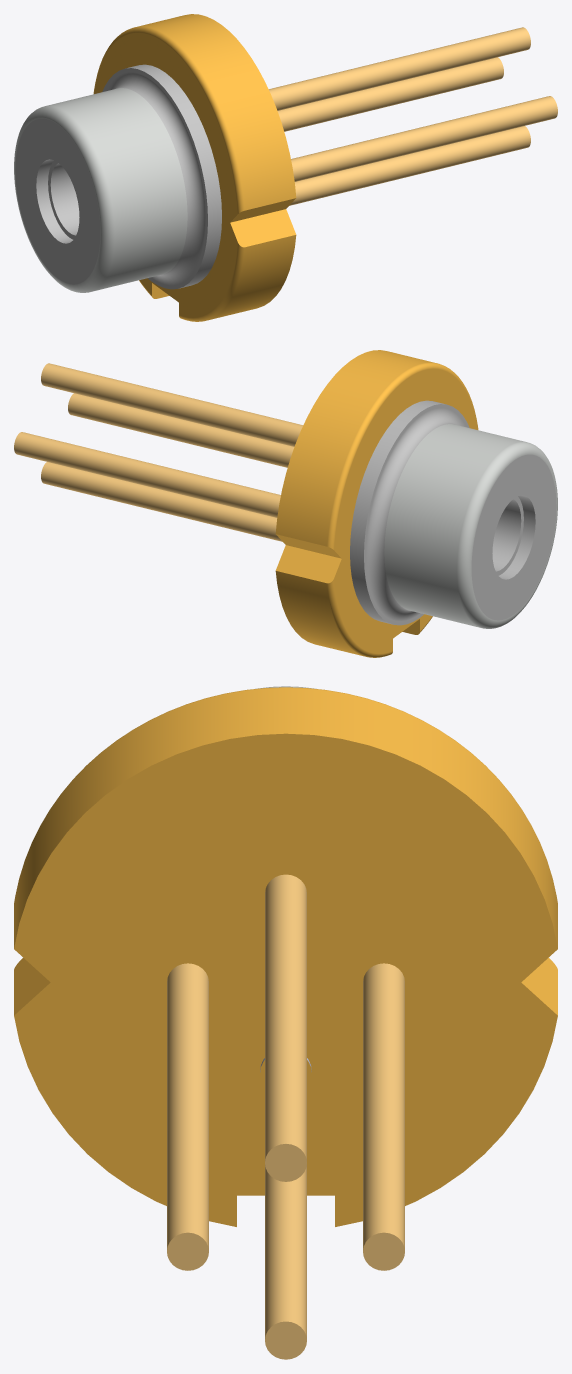
The model's file is Template_L375P70MLD.glb.
The picture shows the model from 3 angles, top to bottom: view 1: azimuth 30°, elevation 25°; view 2: azimuth 150°, elevation 25°; view 3: azimuth 270°, elevation 25°; orthographic projection. The views are drawn at different scales.
Visible parts, largest first — view 1: matte gold, color, color-3, sandblasted zinc, color-2, matte zinc; view 2: matte gold, color, color-3, sandblasted zinc, color-2, matte zinc; view 3: color, matte gold.
Boxes of the visible parts, x1,y1,x2,y2 form: matte gold: (269,27,557,205); color: (94,14,296,317); color-3: (15,64,221,289); sandblasted zinc: (46,88,187,291); color-2: (93,26,296,321); matte zinc: (14,105,114,292); matte gold: (14,363,302,541); color: (275,350,477,653); color-3: (350,400,556,625); sandblasted zinc: (384,424,525,627); color-2: (275,362,478,657); matte zinc: (457,441,557,628); color: (14,688,557,1226); matte gold: (167,874,404,1359).
Bounding box in the file's own units: 0.01 × 0.00555 × 0.00555.
